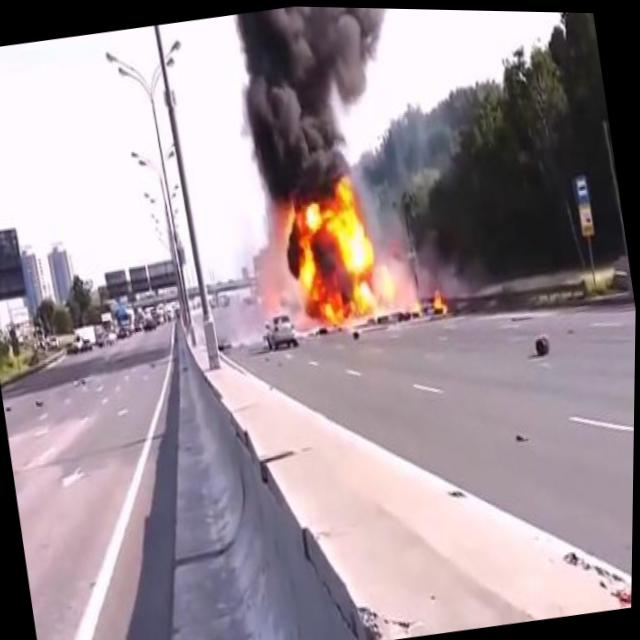fire: (272, 170, 406, 340), (429, 282, 454, 317), (407, 287, 426, 314)
